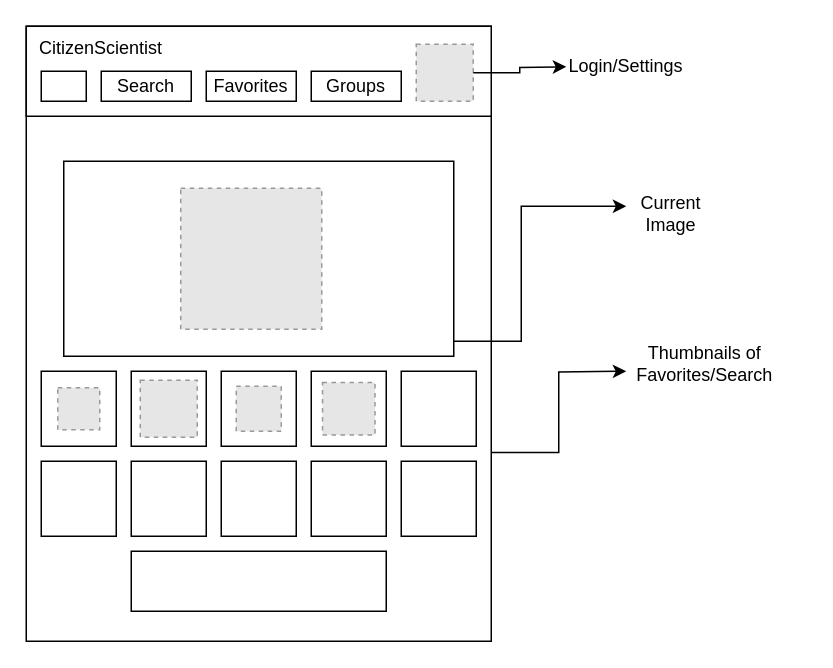
Some shapes in this 833 by 668 pixel diagram are drawn without their labels. Grey dashed boxes stand in for pictures. Here are the shapes that lost their labels. From the top down, the box of each, then its label:
(40, 70, 86, 101): ID
(130, 550, 386, 611): Rock/Plant Info: Common/Latin Name, Region, Requirements, Etc
